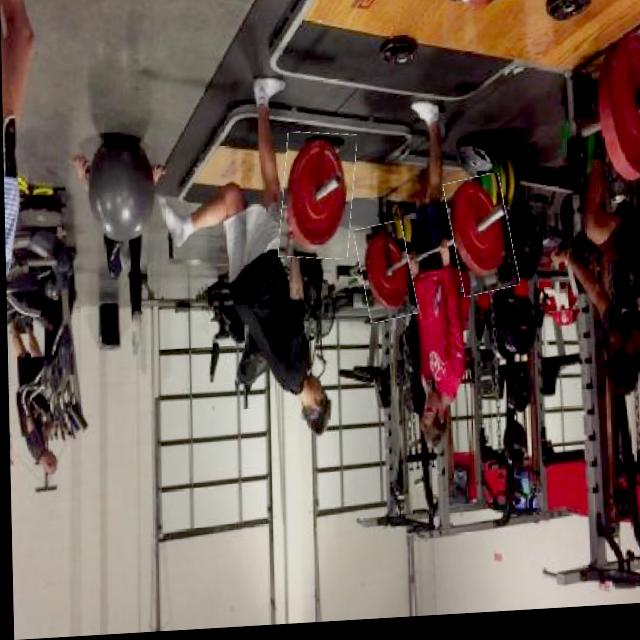barbell: (279, 135, 356, 265), (448, 180, 515, 302), (358, 227, 415, 328)
